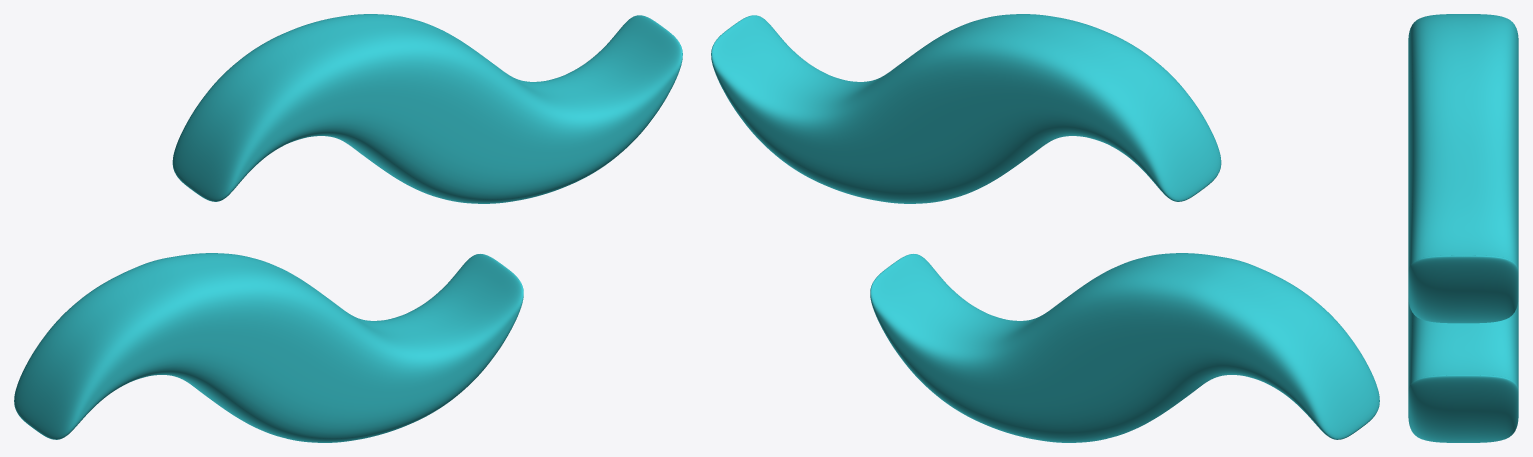
The picture shows the model from 3 angles, left to right: view 1: azimuth 30°, elevation 25°; view 2: azimuth 150°, elevation 25°; view 3: azimuth 270°, elevation 25°; orthographic projection. The views are drawn at different scales.
Parts seen in each view (by area): view 1: LOGO; view 2: LOGO; view 3: LOGO.
Boxes of the visible parts, x1,y1,x2,y2 form: LOGO: [14, 14, 682, 442]; LOGO: [711, 14, 1379, 442]; LOGO: [1408, 14, 1518, 442].
Size of the model in its own units: 3.22 by 1.94 by 0.5.
